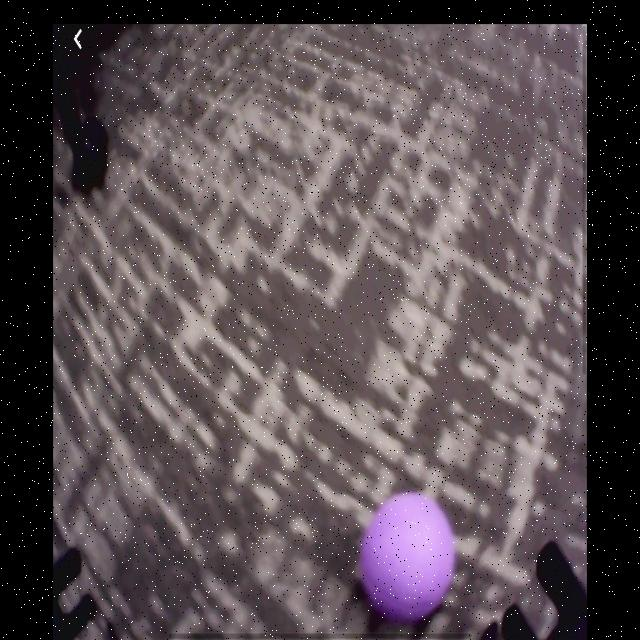ball: (361, 494, 454, 622)
